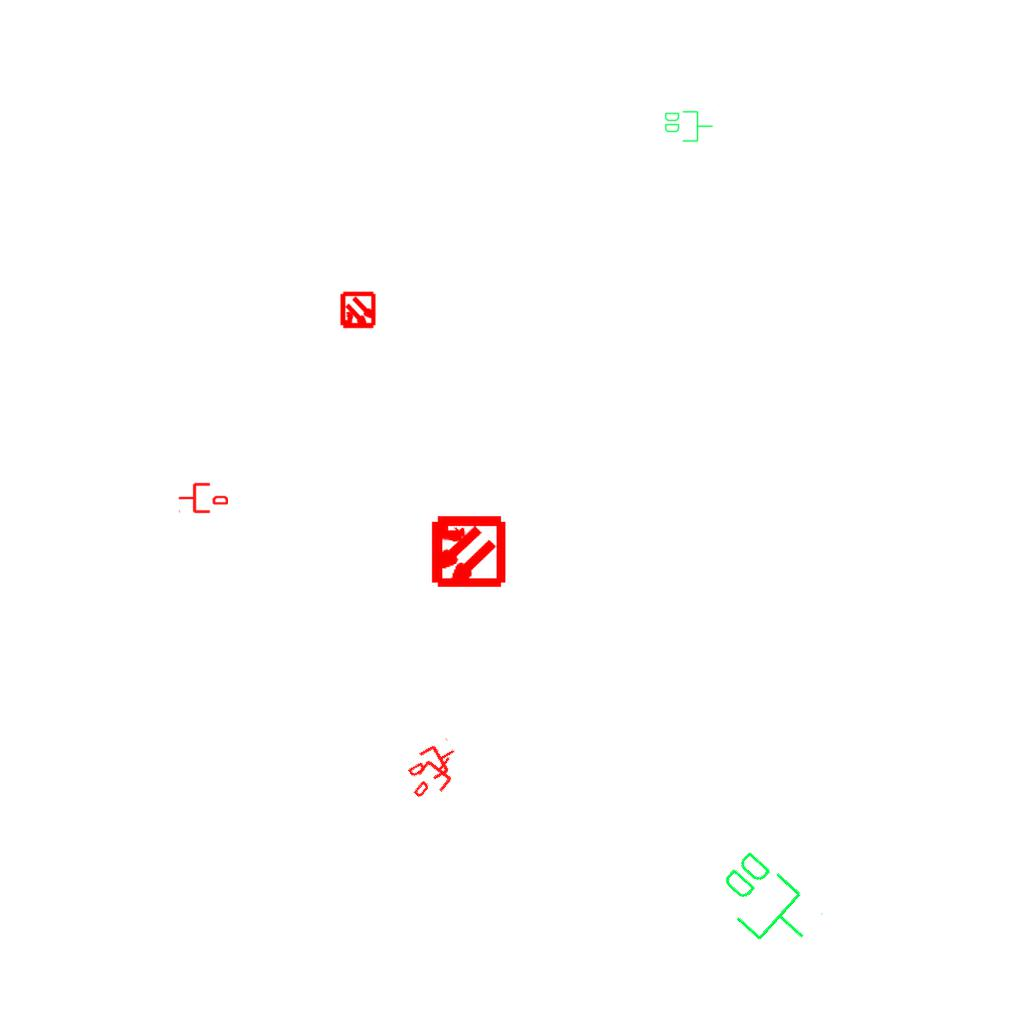Datenanschluss_einfach: (405, 746, 463, 808), (402, 735, 464, 791), (178, 481, 228, 515)
Datenanschluss_zweifach: (705, 843, 828, 964), (663, 109, 714, 143)
OT_Multisensormelder_(Kombination_RMO_WMD): (410, 495, 523, 608), (330, 283, 386, 339)
